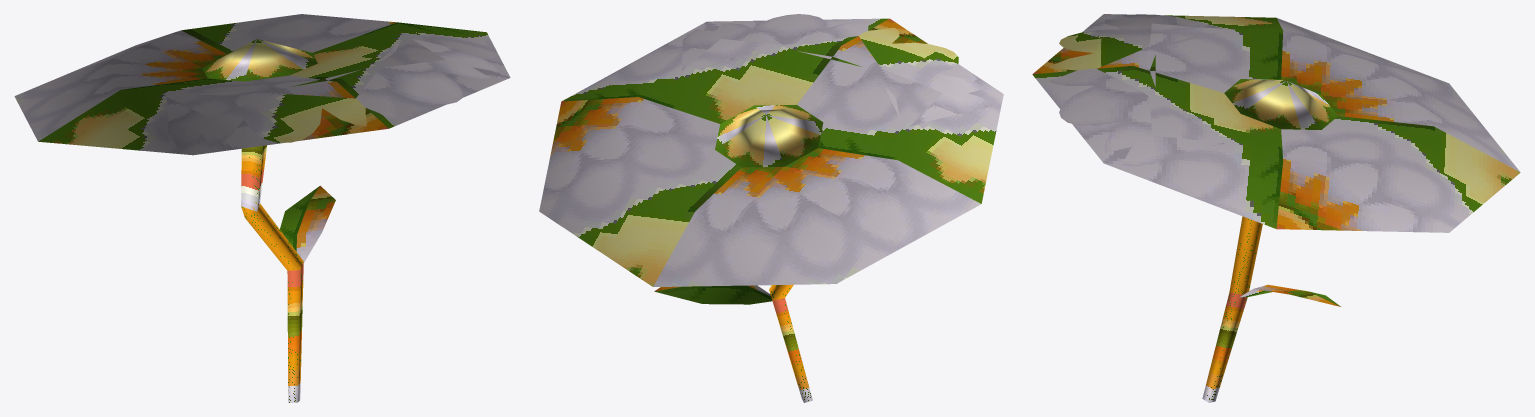
Rendered from wing_flower.dae.
The picture shows the model from 3 angles, left to right: view 1: azimuth 30°, elevation 25°; view 2: azimuth 150°, elevation 25°; view 3: azimuth 270°, elevation 25°; orthographic projection. The views are drawn at different scales.
Visible parts, largest first — view 1: wing_flower.001, wing_flower, wing_flower.002; view 2: wing_flower.001, wing_flower, wing_flower.002; view 3: wing_flower.001, wing_flower, wing_flower.002.
Part boxes in pixels (bbox=[...]): wing_flower.001: bbox=[14, 14, 510, 155]; wing_flower: bbox=[167, 38, 500, 149]; wing_flower.002: bbox=[241, 145, 335, 402]; wing_flower.001: bbox=[539, 18, 1003, 286]; wing_flower: bbox=[682, 14, 995, 126]; wing_flower.002: bbox=[654, 284, 812, 402]; wing_flower.001: bbox=[1032, 14, 1520, 232]; wing_flower: bbox=[1049, 14, 1225, 166]; wing_flower.002: bbox=[1202, 216, 1340, 402].
Size of the model in its own units: 25.38 by 24.77 by 18.87.
Materials: 3 (3 with a texture image).
